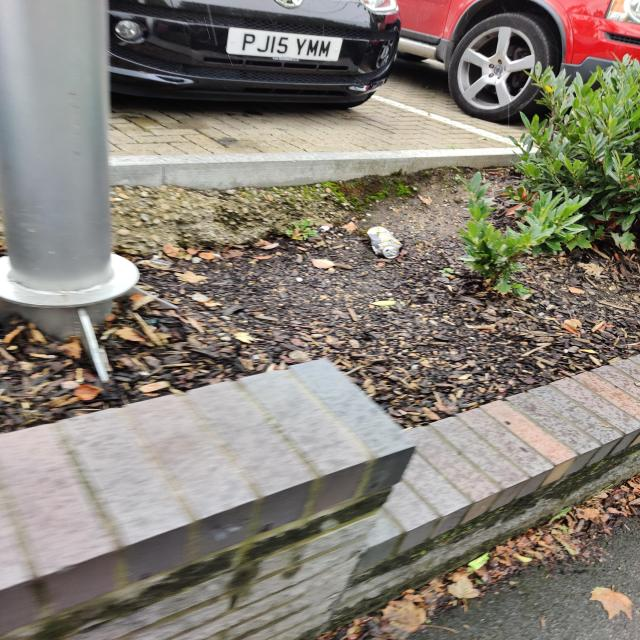litter: (345, 207, 417, 275)
